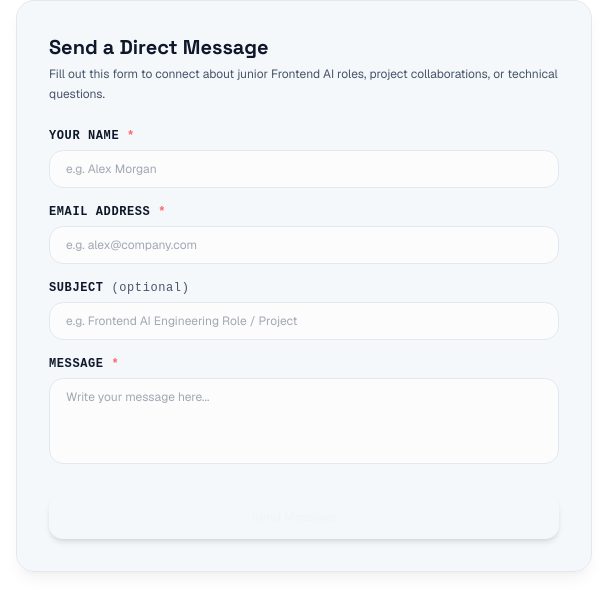
Scenario: ContactForm Dynamic Component › validates invalid email formats correctly
This screenshot has width=609, height=612.
Type "Alex Morgan" into the field labelled "Your Name *" at (304, 169), box [49,150,559,188]
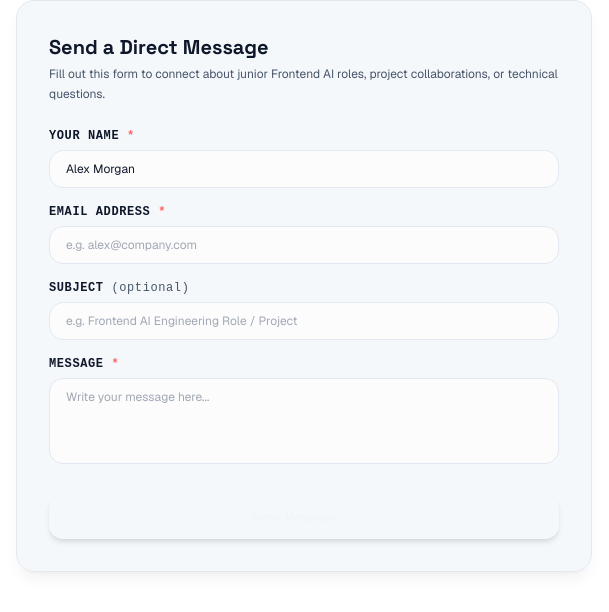
Type "invalid-email-no-at" into the field labelled "Email Address *" at (304, 245), box [49,226,559,264]
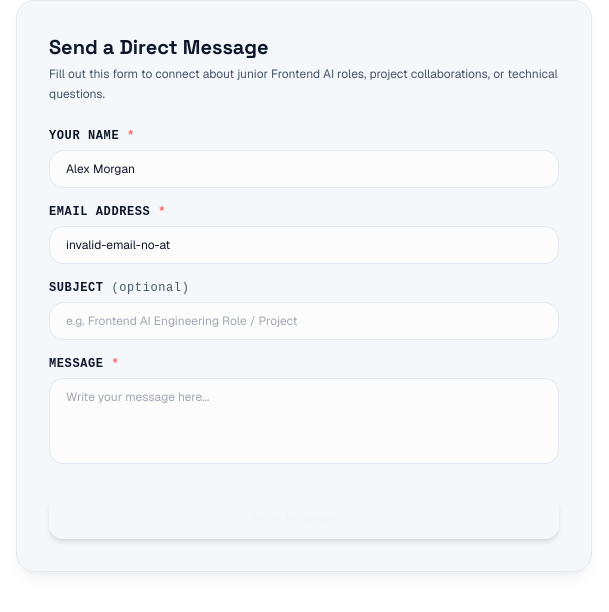
Type "Hello Aditya, this is a test message for your portfolio." into the text box labelled "Message *" at (304, 421), box [49,378,559,464]
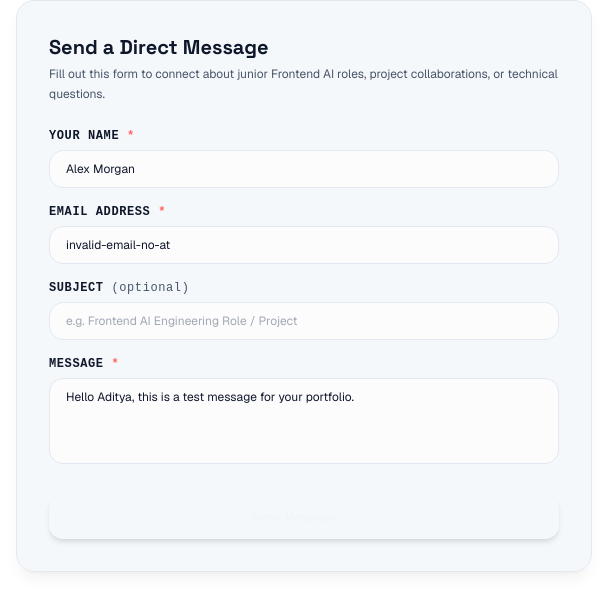
Click the button "Send Message →" at (304, 517), box [49,495,559,539]
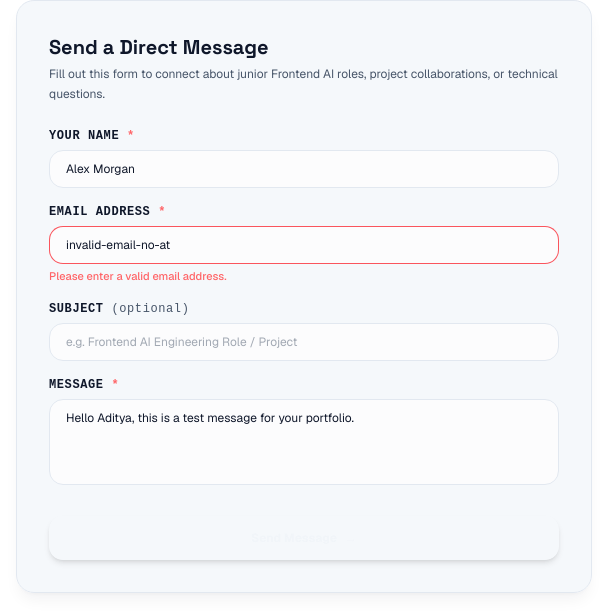
Check: the text "Please enter a valid email address." is shown, box [49,269,226,283]
